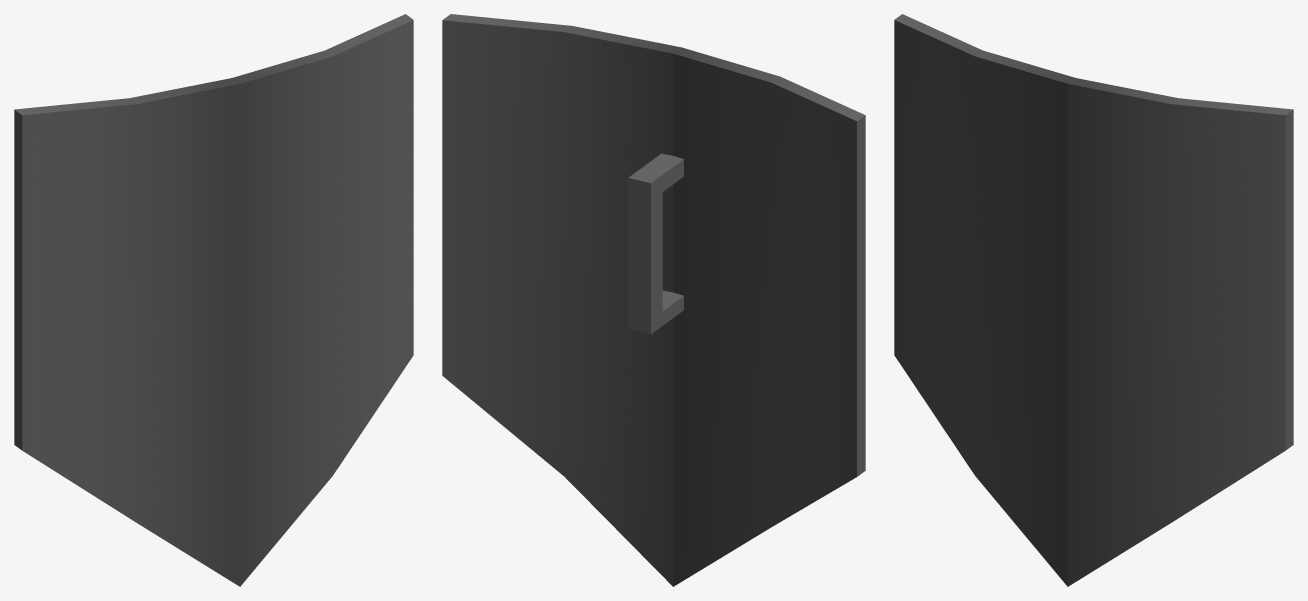
Rendered from shield.glb.
The picture shows the model from 3 angles, left to right: view 1: azimuth 30°, elevation 25°; view 2: azimuth 150°, elevation 25°; view 3: azimuth 330°, elevation 25°; orthographic projection. The views are drawn at different scales.
Visible parts, largest first — view 1: Shield; view 2: Shield; view 3: Shield.
Boxes of the visible parts, x1,y1,x2,y2 form: Shield: [14, 14, 413, 586]; Shield: [442, 14, 865, 586]; Shield: [894, 14, 1293, 586].
Size of the model in its own units: 0.3104 by 0.3815 by 0.0548.
Materials: 1 (1 with a texture image).
